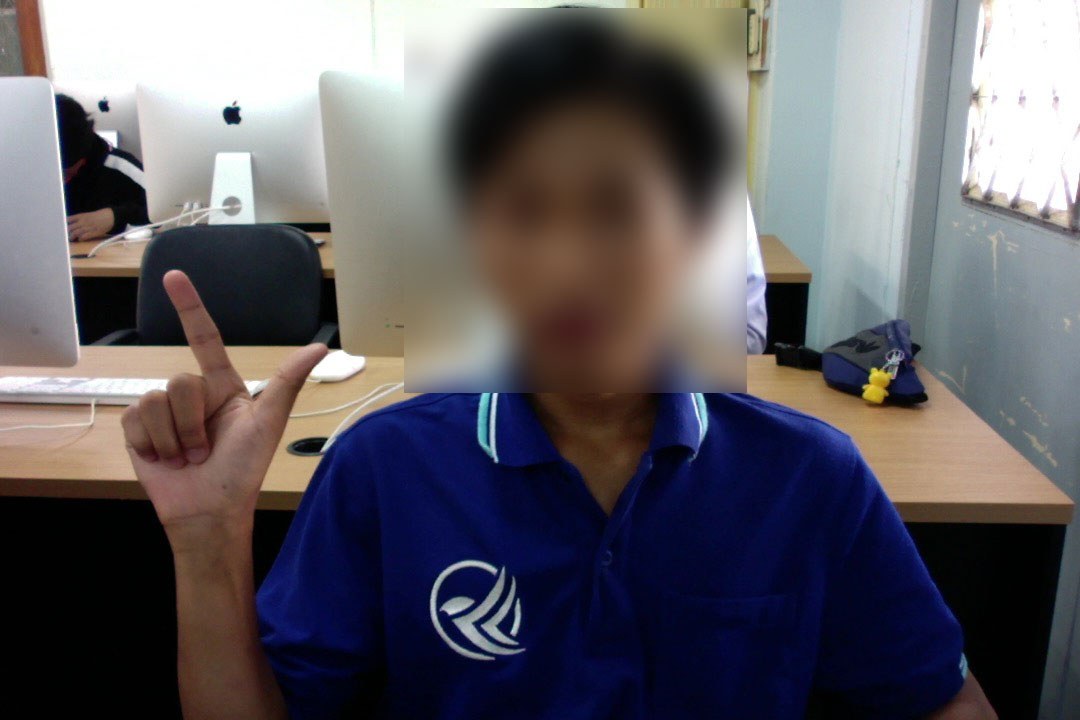lor: (113, 262, 339, 534)
